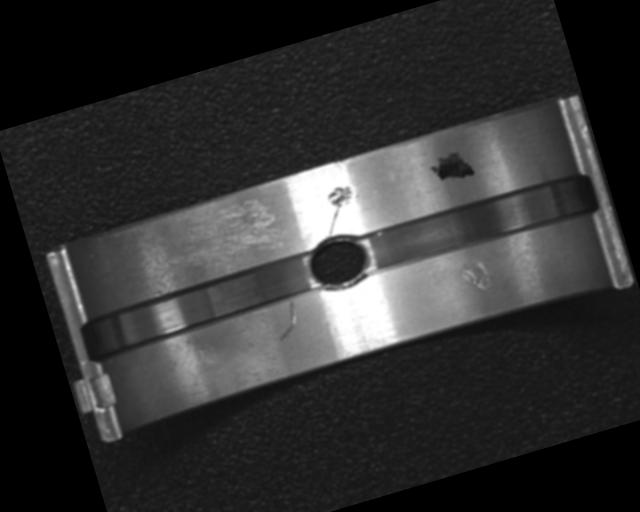blot: (427, 148, 476, 187)
bruise: (456, 256, 496, 300), (322, 183, 357, 212)
gap: (78, 250, 320, 365), (357, 166, 599, 281)
hole: (300, 225, 376, 299)
nick: (269, 300, 304, 341), (318, 202, 350, 239)
scratch: (156, 195, 284, 282)
